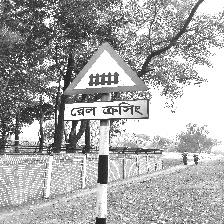Rail-crossing: (62, 42, 151, 124)
